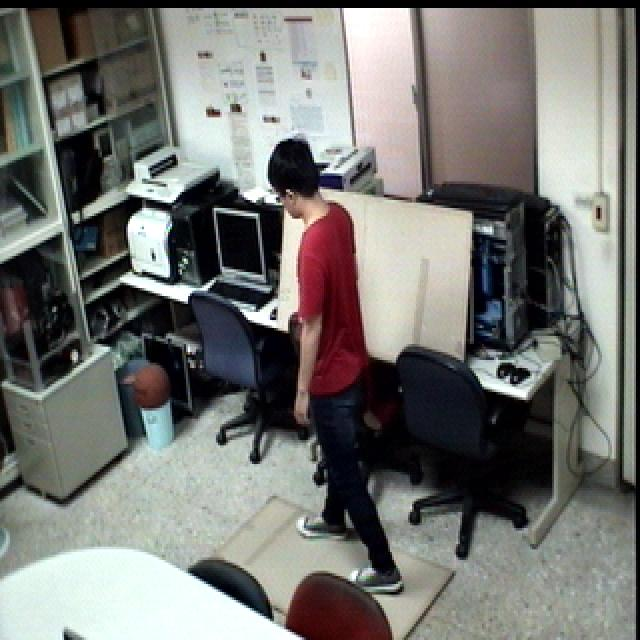stand: (258, 129, 405, 605)
